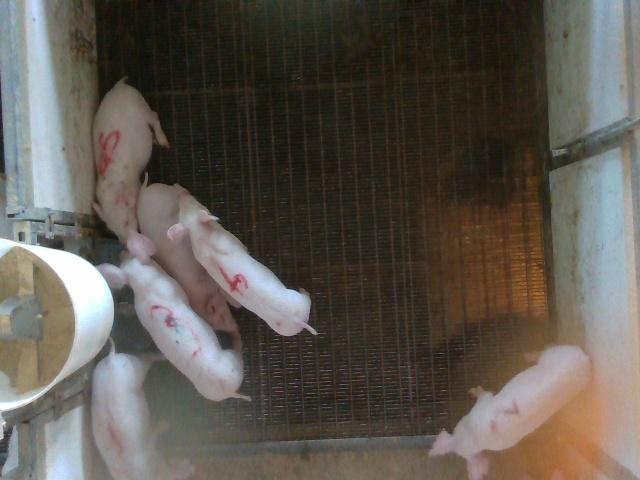pig-1: (91, 345, 156, 479)
pig-2: (428, 346, 590, 479)
pig-3: (95, 229, 242, 401)
pig-4: (169, 185, 316, 336)
pig-5: (92, 78, 169, 244)
